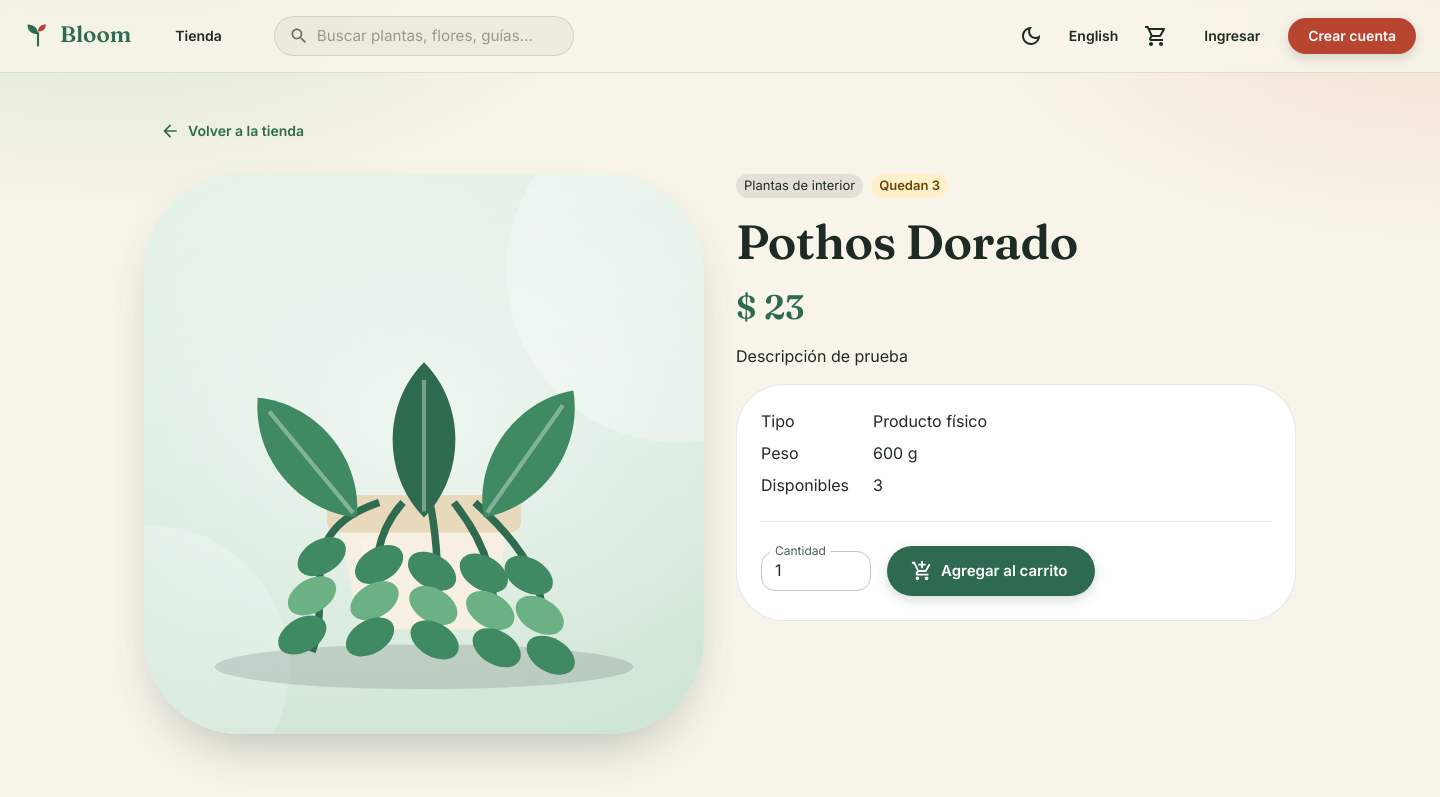
Test: CartPage › should_not_allow_more_units_than_the_stock
Replace the text in the number field labelled "Cantidad" with "9" at [816, 571], box [761, 551, 871, 591]
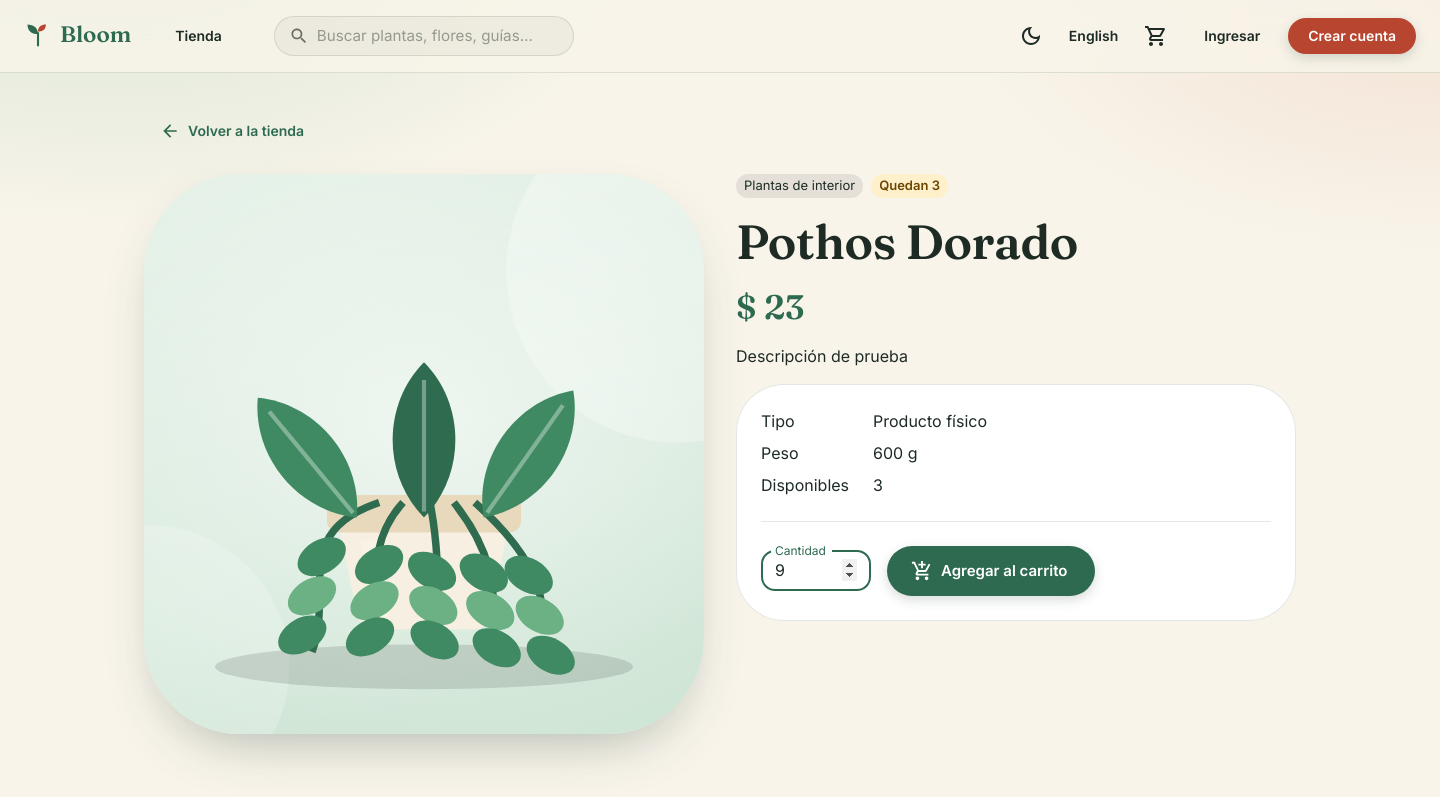
Click the button "Agregar al carrito" at [991, 571], box [887, 546, 1096, 596]
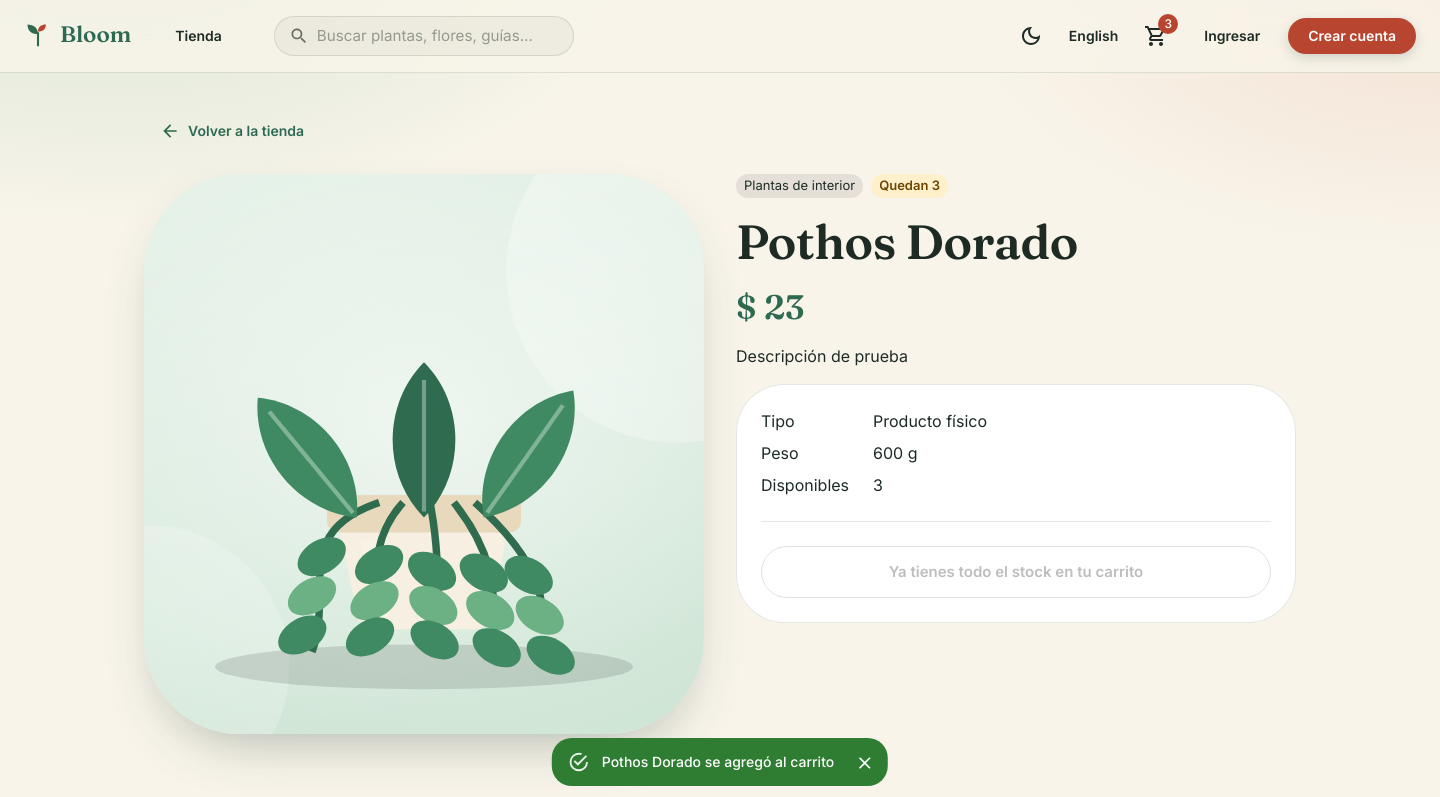
Click the link named "Carrito" at [1156, 36], box [1136, 16, 1176, 56]
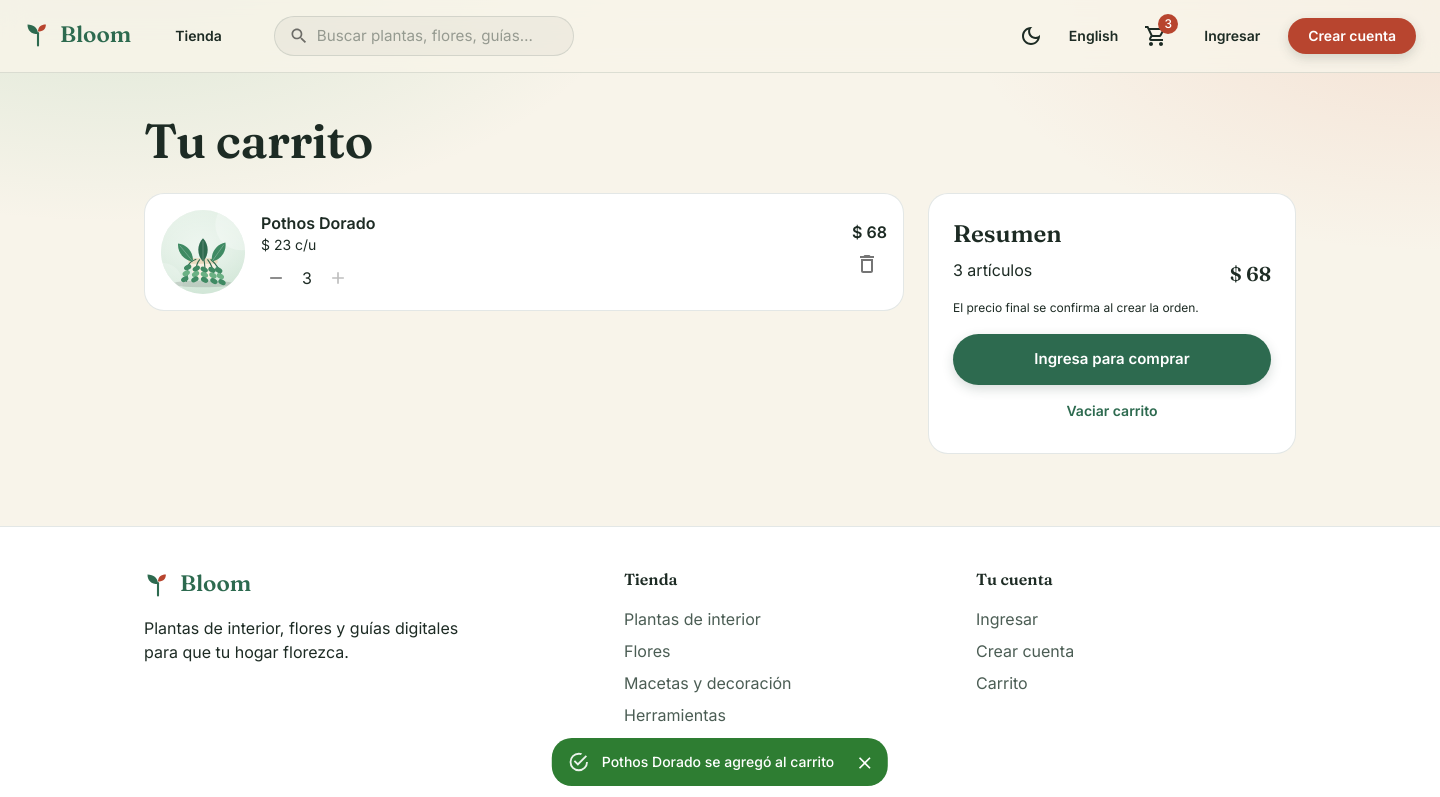
Expected: the text named "Cantidad de Pothos Dorado" reads "3", [302, 268, 312, 288]
Expected: the button named "Agregar una unidad de Pothos Dorado" is disabled, [323, 263, 353, 293]
